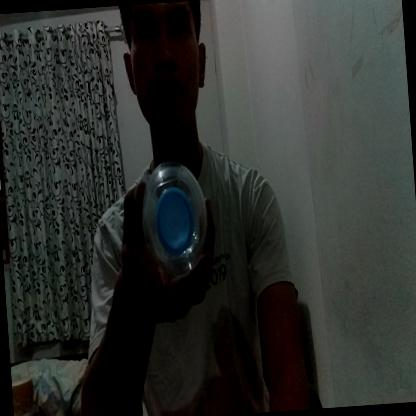plastic_bottles: (138, 157, 212, 284)
